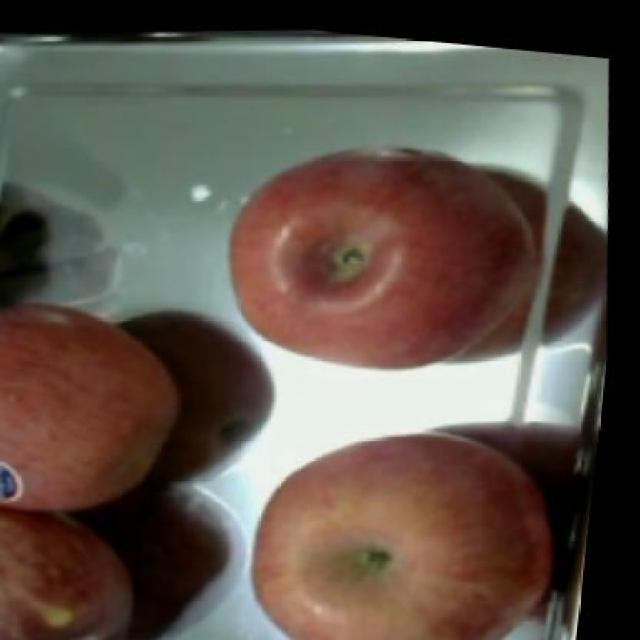Fresh Apple: (238, 158, 532, 377), (256, 446, 558, 640), (0, 301, 183, 534)
